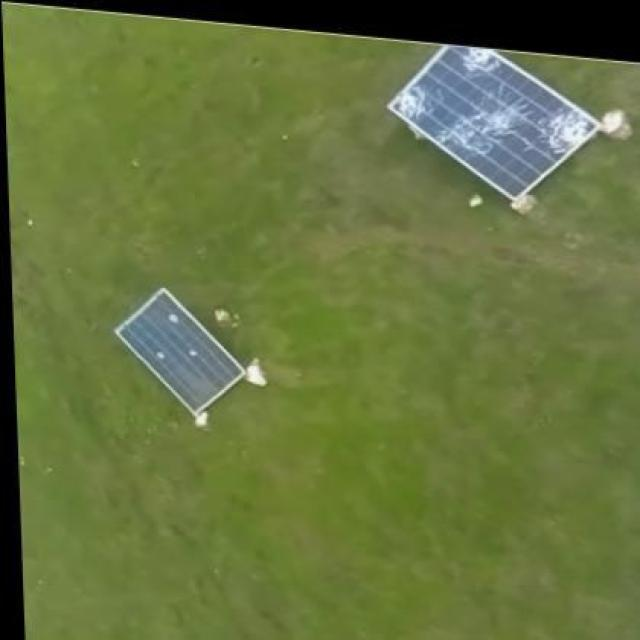cracked: (386, 42, 604, 202)
soiled: (112, 288, 245, 414)
